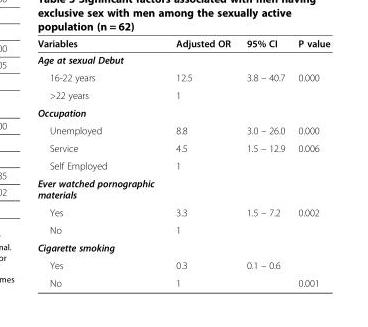table: (36, 37, 329, 288)
table column: (36, 37, 164, 288), (164, 37, 237, 288), (237, 37, 291, 288), (291, 37, 329, 288)
table column header: (36, 37, 329, 51)
table projected row header: (36, 174, 329, 203), (36, 103, 329, 121), (36, 238, 329, 256), (36, 51, 329, 68)
table row: (36, 174, 329, 203), (36, 68, 329, 86), (36, 103, 329, 121), (36, 121, 329, 139), (36, 156, 329, 174), (36, 220, 329, 238), (36, 238, 329, 256), (36, 51, 329, 68), (36, 86, 329, 103), (36, 139, 329, 156), (36, 203, 329, 220), (36, 256, 329, 273), (36, 273, 329, 288), (36, 37, 329, 51)
